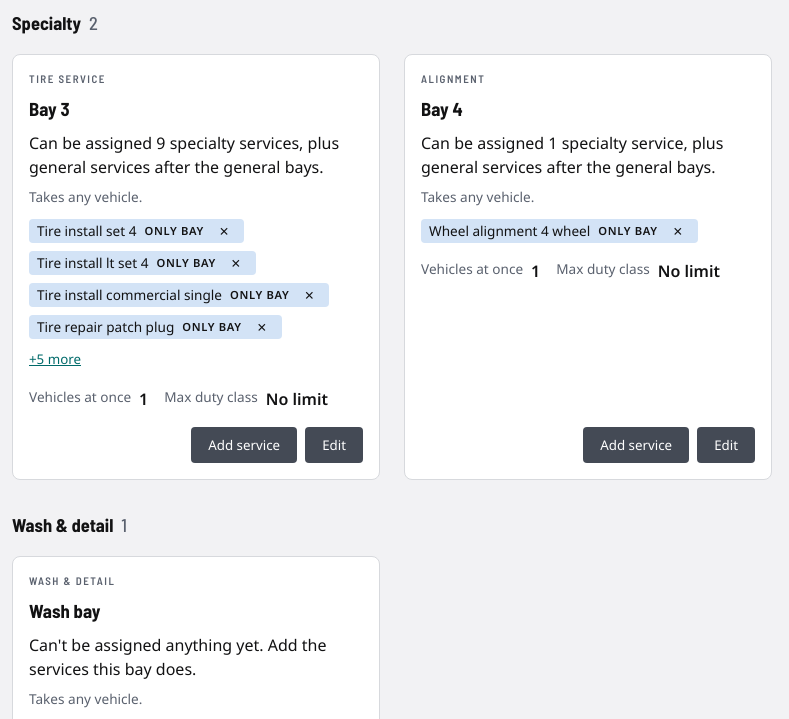
BaysPageComponent › lanes and cards › marks the only in-service bay for a service, and shows four chips before "+N more"
This screenshot has width=789, height=719.
What coordinates should you click on to do the following:
click the button with class "more-chips-btn"
I would click on:
 (55, 360)
Its box is 29,348 -> 81,372.
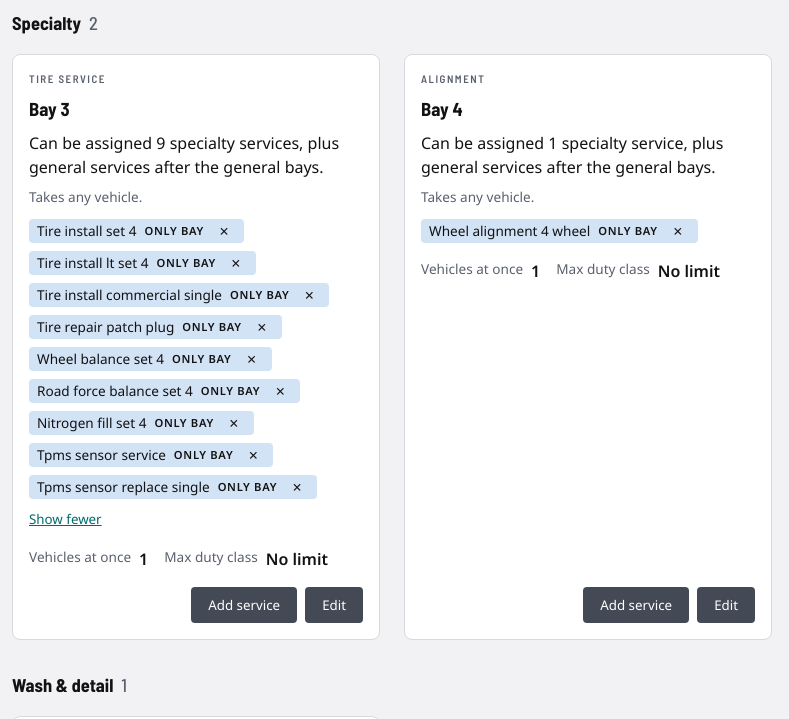
Now the button with class "more-chips-btn" reads "Show fewer", box 29,508 -> 102,532
